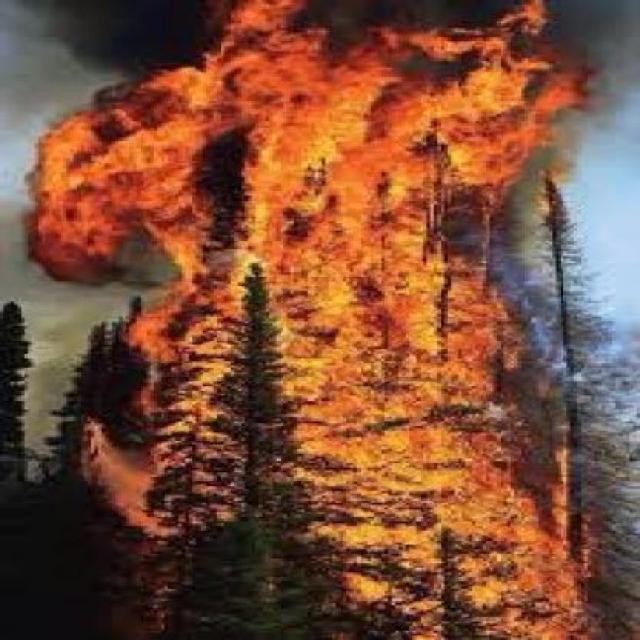Fire: (118, 0, 560, 631)
